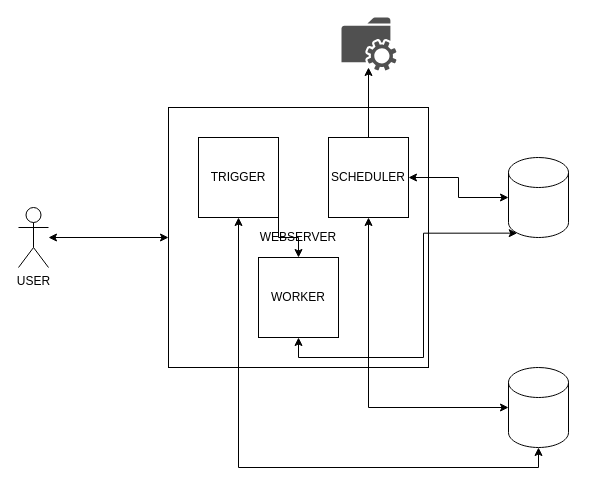
The diagram is 589 pixels wide and 494 high, and some of its shapes have lost their labels. Here are the shapes that lost their labels. From the top down, the centre of each, then its label:
the point at 368,43: /dag
the point at 538,197: POSTGRES
the point at 538,407: REDIS
